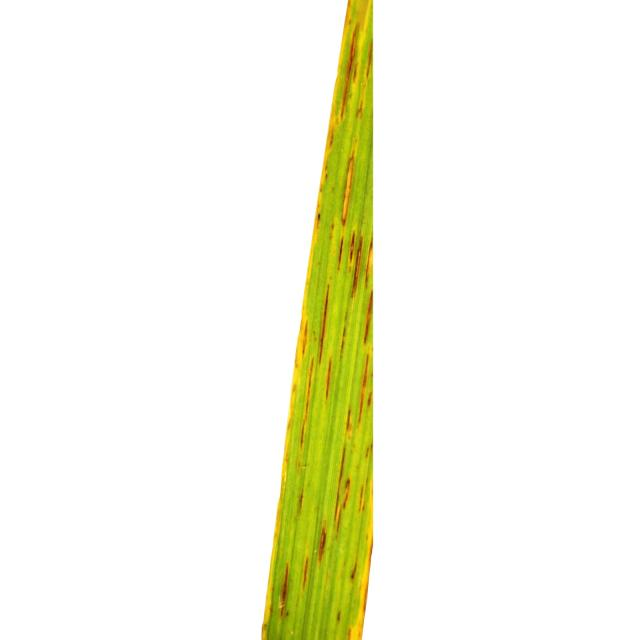Narrow brown: (192, 1, 454, 640)
